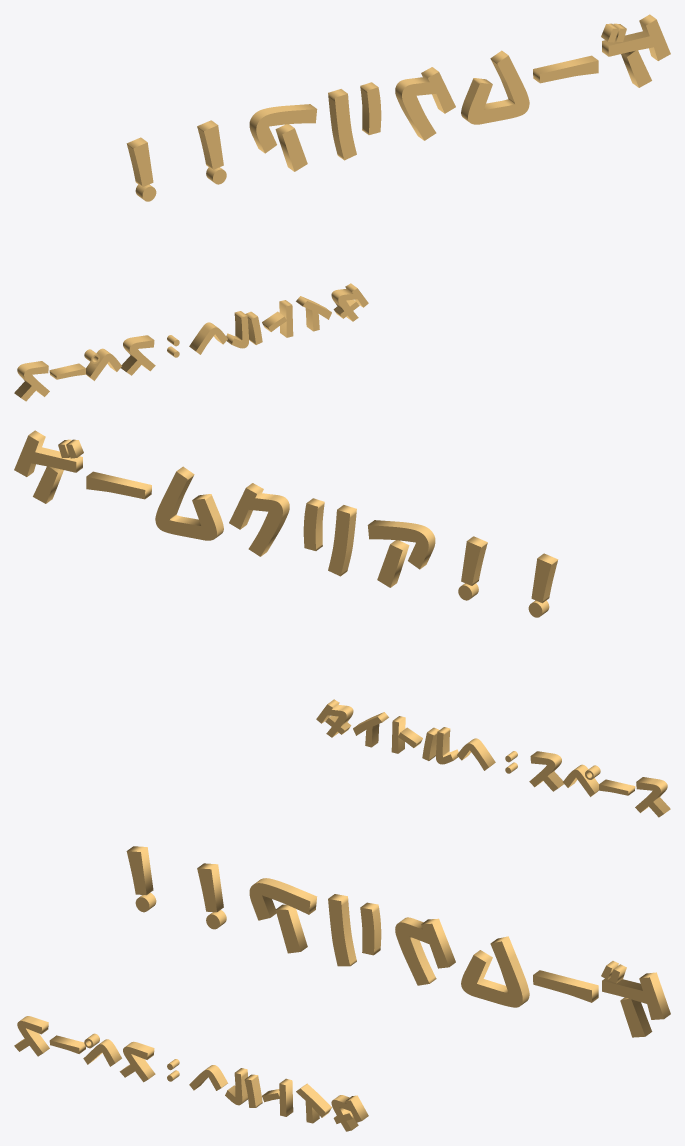
File: clearText.obj
3 views of the same model, one above another, from view 1: azimuth 30°, elevation 25°; view 2: azimuth 150°, elevation 25°; view 3: azimuth 330°, elevation 25° (orthographic).
Parts seen in each view (by area): view 1: テキスト, テキスト.001; view 2: テキスト, テキスト.001; view 3: テキスト, テキスト.001.
Part boxes in pixels (left/top/right/bottom): テキスト: left=126, top=14, right=670, bottom=201; テキスト.001: left=14, top=283, right=368, bottom=401; テキスト: left=14, top=430, right=558, bottom=617; テキスト.001: left=316, top=699, right=670, bottom=817; テキスト: left=126, top=846, right=670, bottom=1037; テキスト.001: left=14, top=1016, right=368, bottom=1131.
Bounding box in the file's own units: 55.18 × 18.64 × 1.
2 materials, 2 textured.
